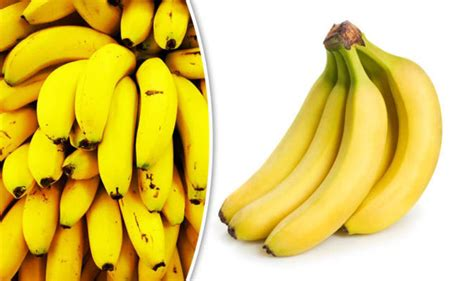banana: (263, 64, 390, 263), (228, 80, 352, 244), (219, 67, 336, 232), (342, 55, 444, 238), (74, 36, 140, 148), (131, 55, 180, 174), (97, 70, 137, 202)
